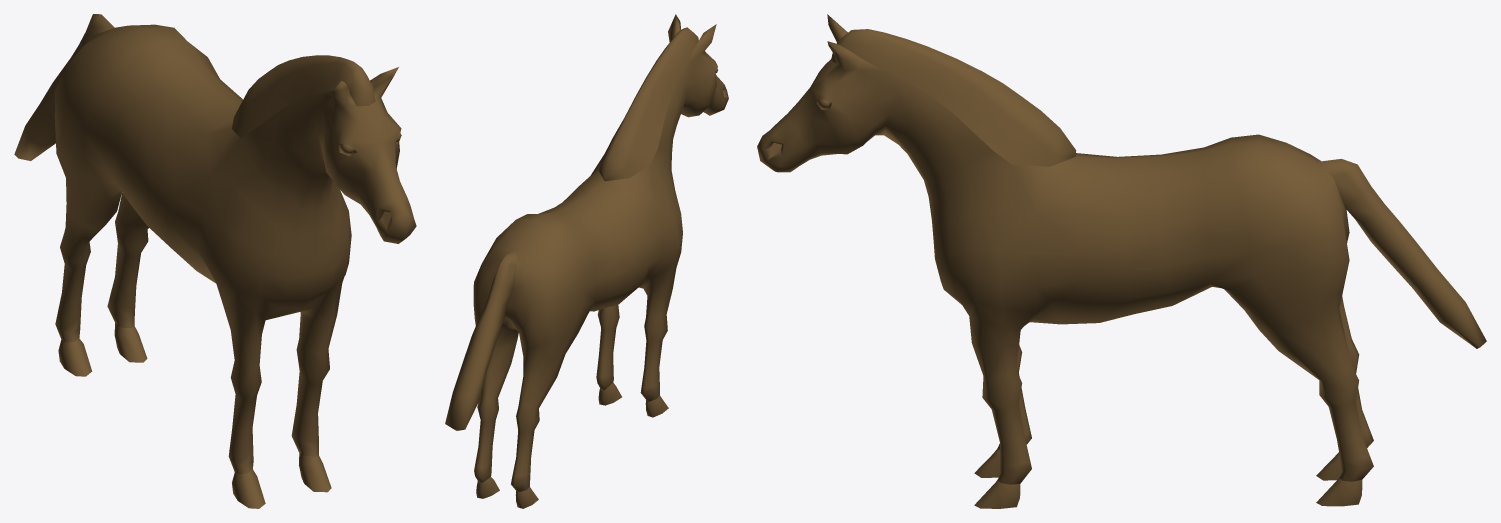
Rendered from cavalo_carroca.fbx.
3 views of the same model, side by side, from view 1: azimuth 30°, elevation 25°; view 2: azimuth 150°, elevation 25°; view 3: azimuth 270°, elevation 25° (orthographic). The views are drawn at different scales.
Visible parts, largest first — view 1: horse_001; view 2: horse_001; view 3: horse_001.
Part boxes in pixels (x1,y1,x2,y2): horse_001: [14, 14, 416, 508]; horse_001: [445, 14, 728, 508]; horse_001: [757, 14, 1486, 508].
Size of the model in its own units: 55 by 186 by 266.
